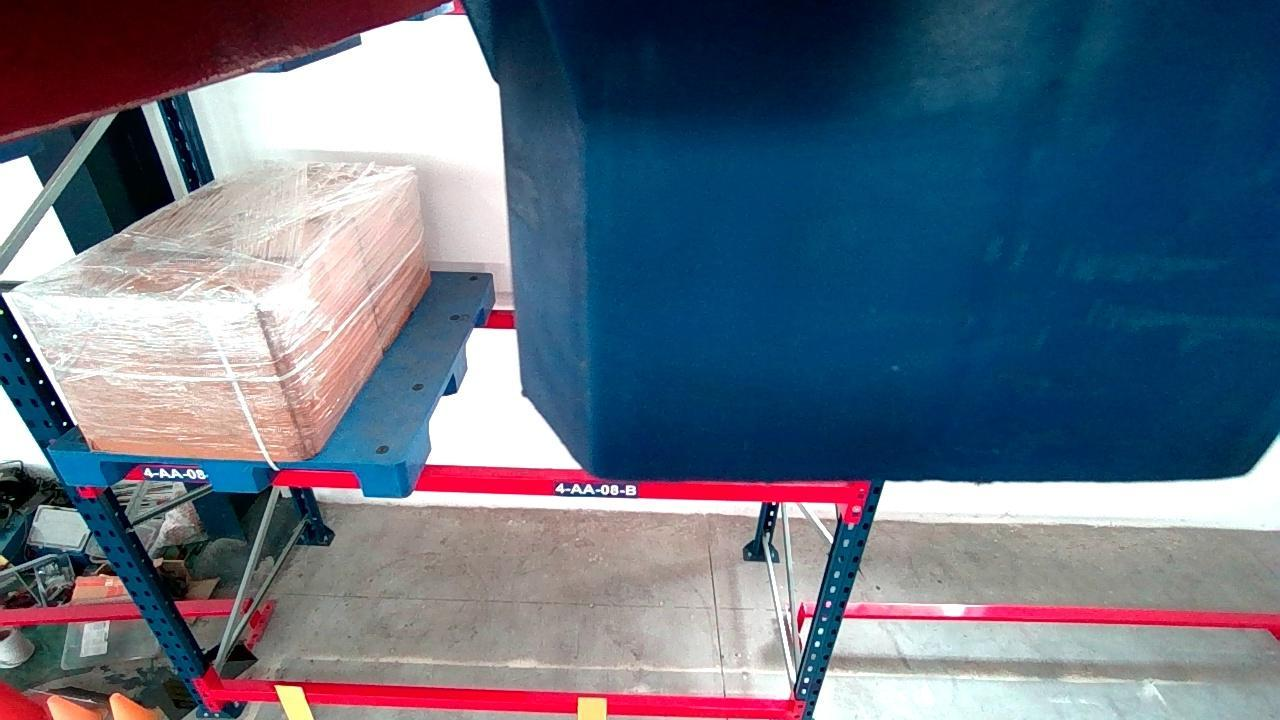h_rack: (125, 467, 847, 503), (207, 689, 787, 720)
orange_strip: (275, 685, 316, 720)
small_pallet: (50, 452, 407, 496)
